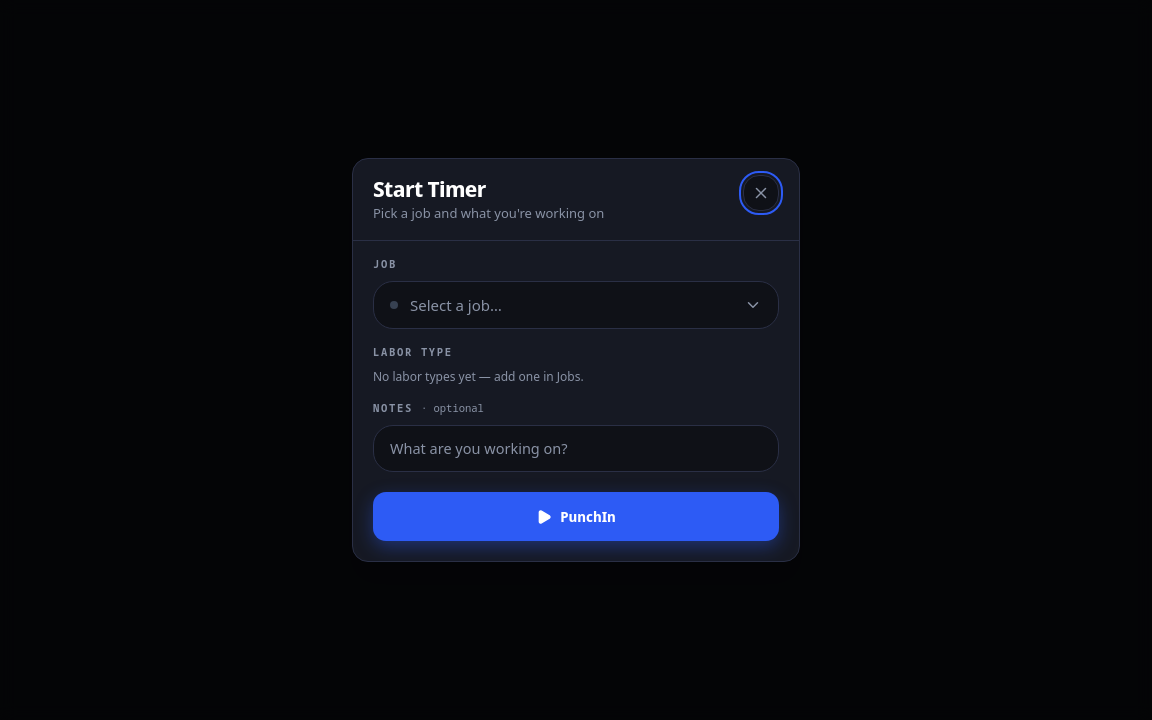
Test: StartTimerModal — validation › shows an error when submitting with no job selected
Click the button "PunchIn" at coordinates (576, 517), box [373,492,779,541]
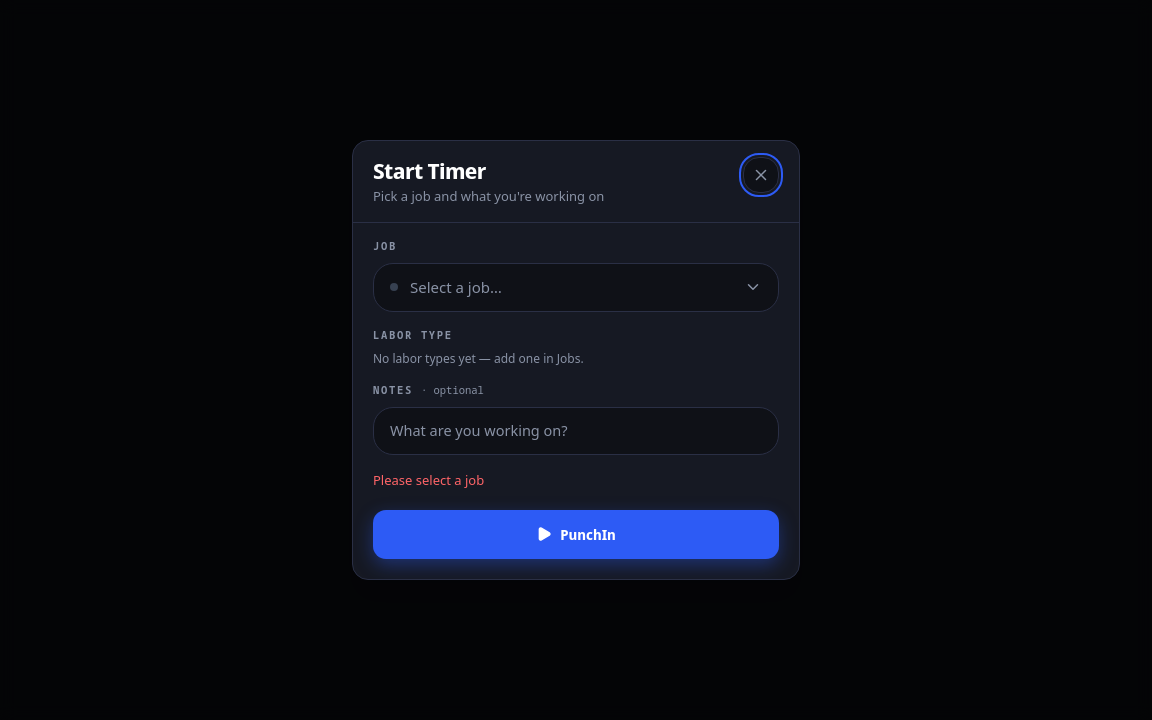
Now the text "Please select a job" is shown, box [373,471,484,489]
